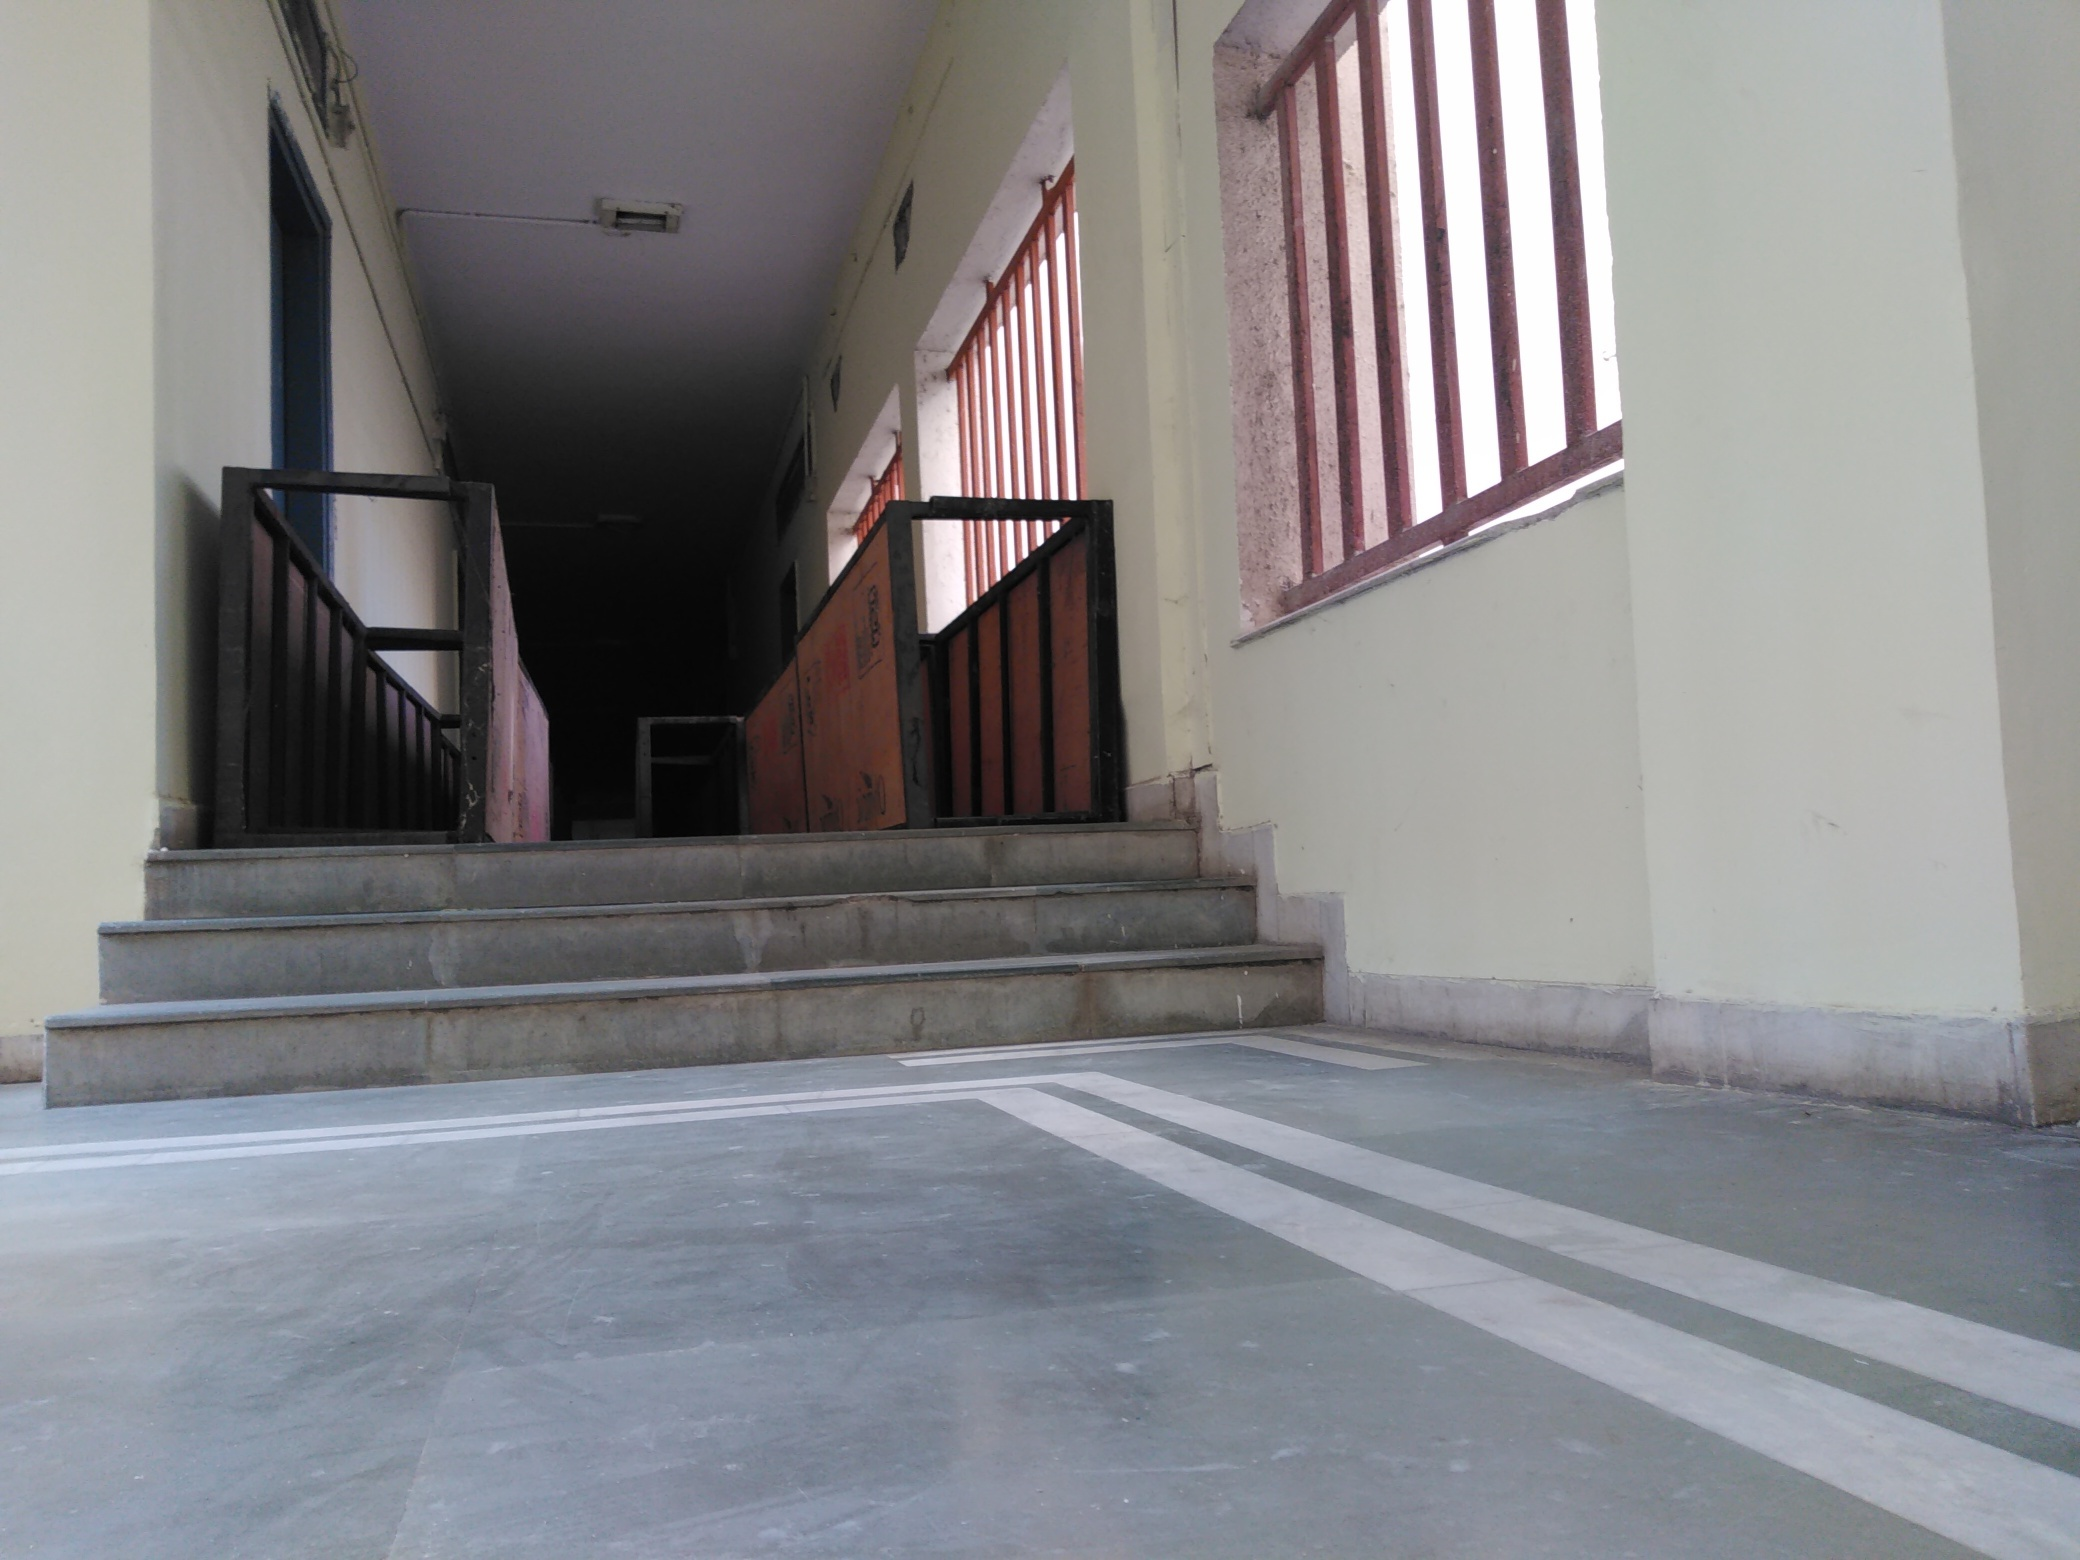stairs_up: (61, 841, 1309, 1060)
